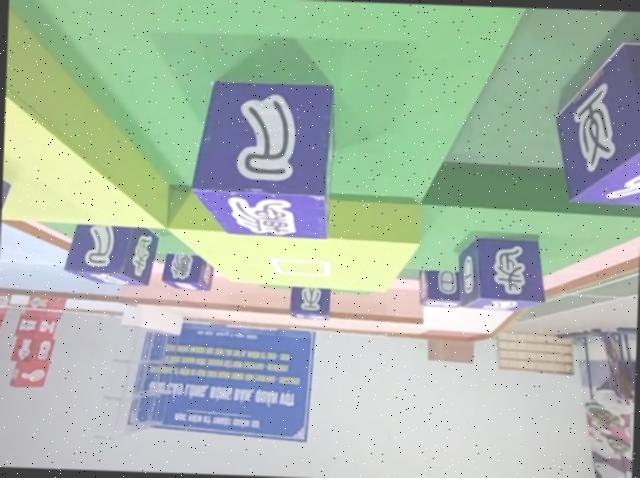R2 Fake Blue: (190, 74, 338, 242), (553, 33, 640, 208), (455, 234, 547, 311), (65, 221, 161, 286), (163, 250, 217, 289), (417, 266, 465, 306), (286, 285, 330, 320)
